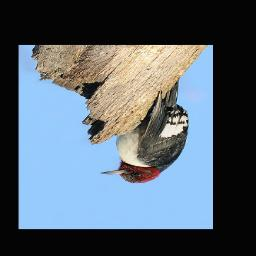Woodpecker: (100, 80, 190, 183)
